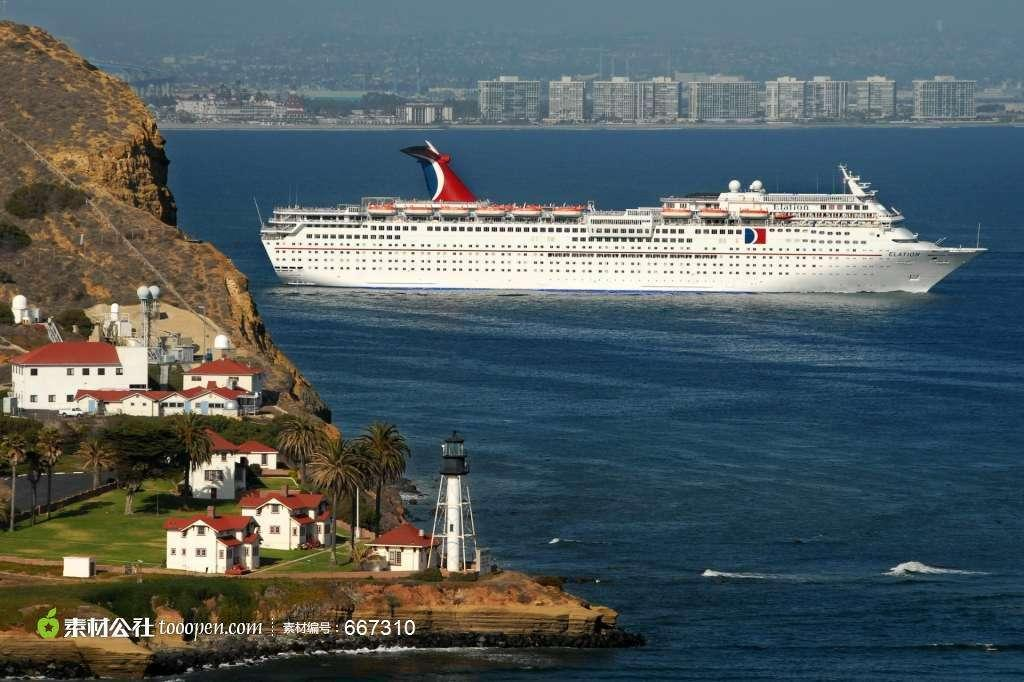youlun: (256, 139, 983, 295)
